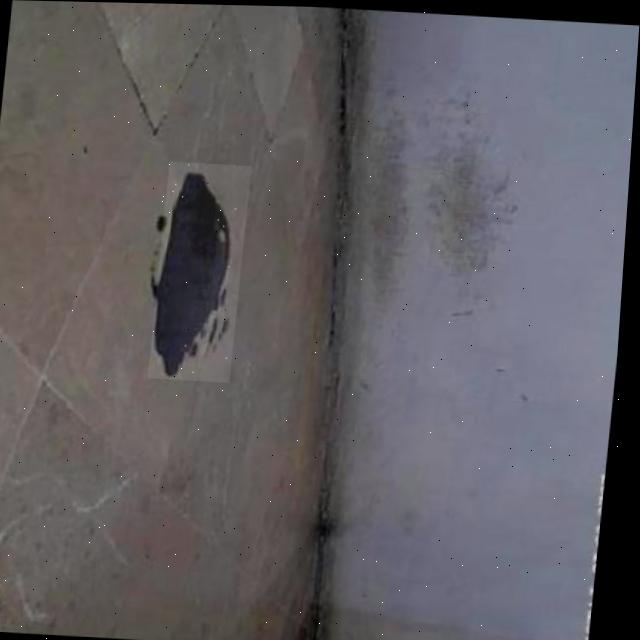spillage: (155, 162, 236, 378)
